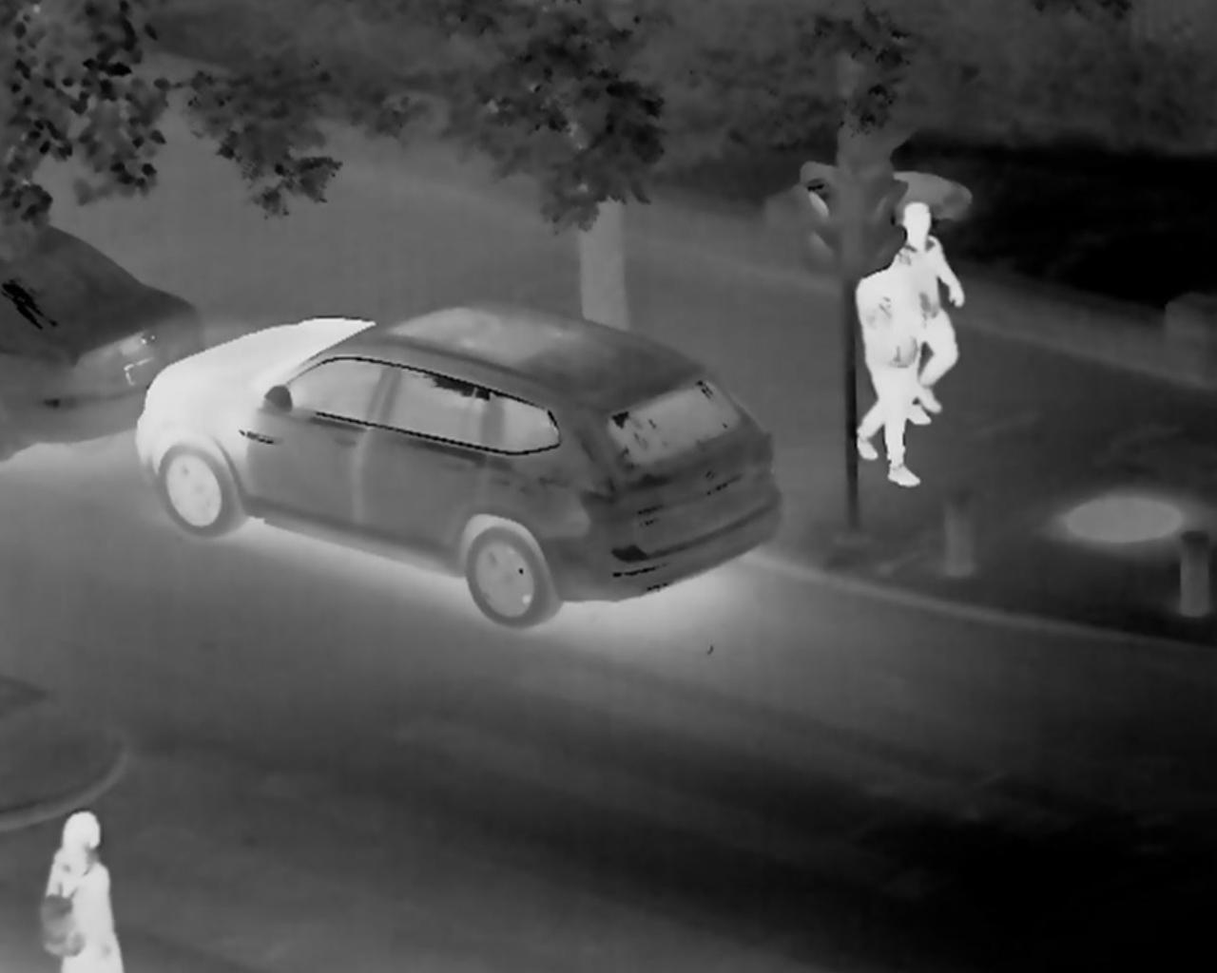person: (893, 198, 967, 423), (859, 242, 923, 490), (42, 807, 132, 973)
